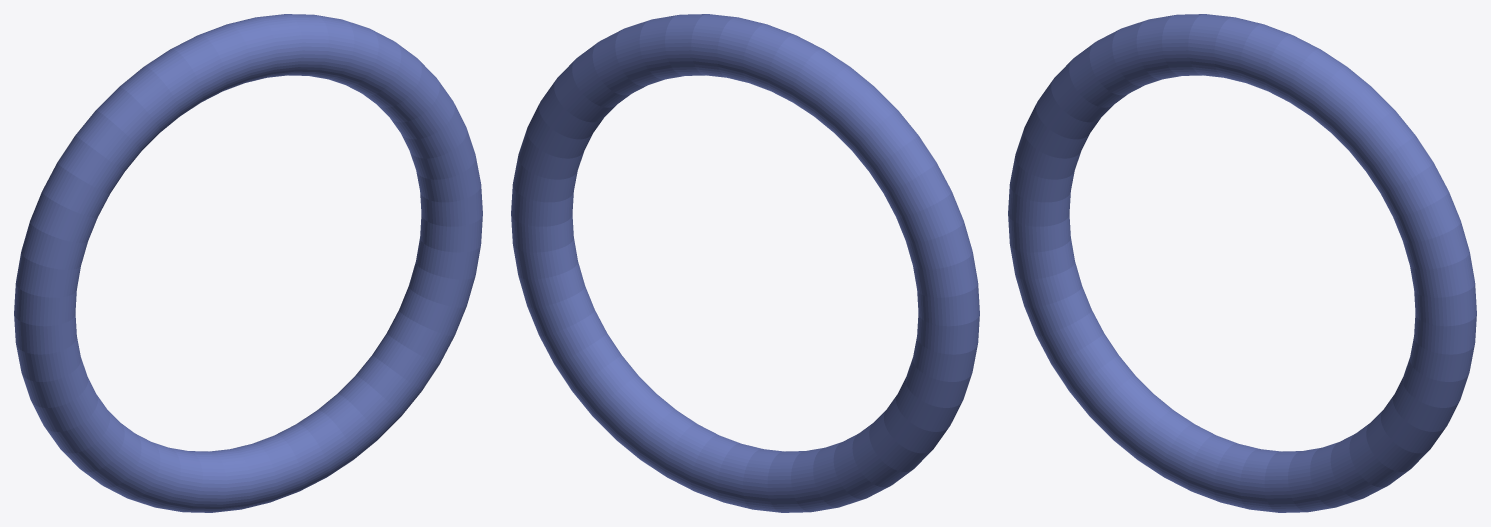
3 renders of one model, left to right at view 1: azimuth 30°, elevation 25°; view 2: azimuth 150°, elevation 25°; view 3: azimuth 330°, elevation 25°, orthographic.
Visible parts, largest first — view 1: world; view 2: world; view 3: world.
Boxes of the visible parts, x1,y1,x2,y2 form: world: [14, 14, 482, 512]; world: [511, 14, 979, 512]; world: [1008, 14, 1476, 512].
Size of the model in its own units: 19.6 by 19.56 by 2.26.
